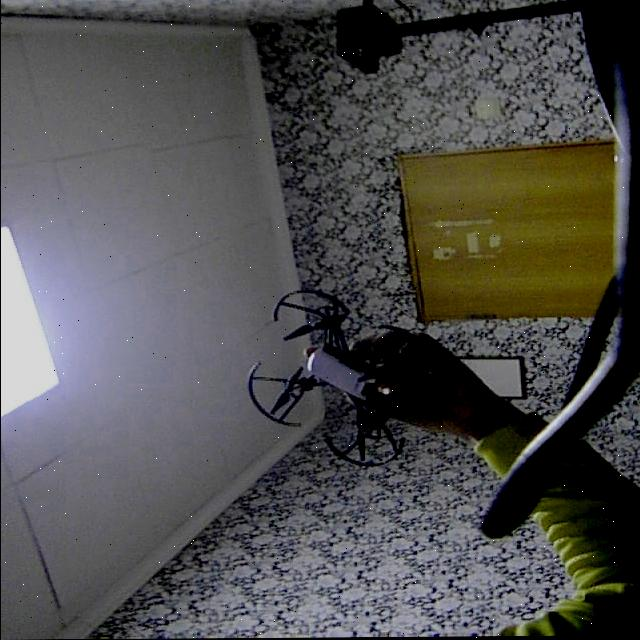drone: (234, 284, 451, 476)
